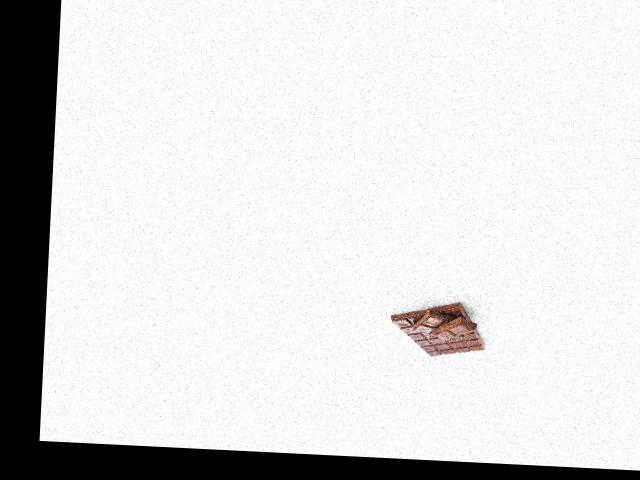chocolate: (387, 294, 488, 363)
